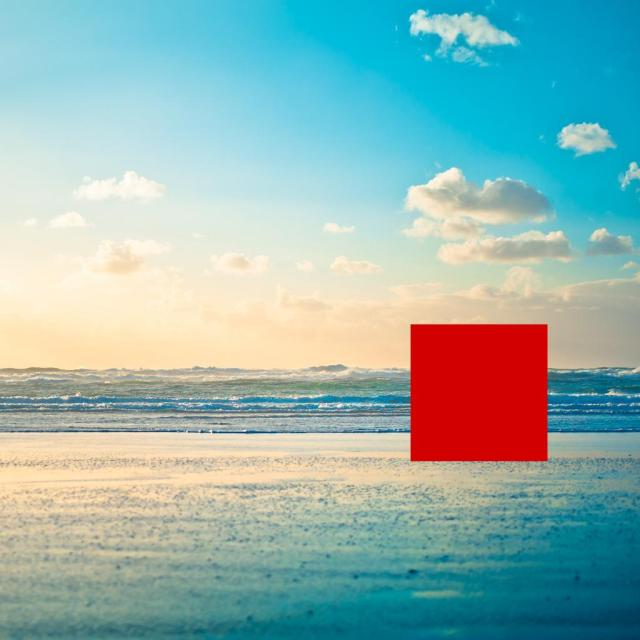RedSquare: (403, 314, 558, 468)
